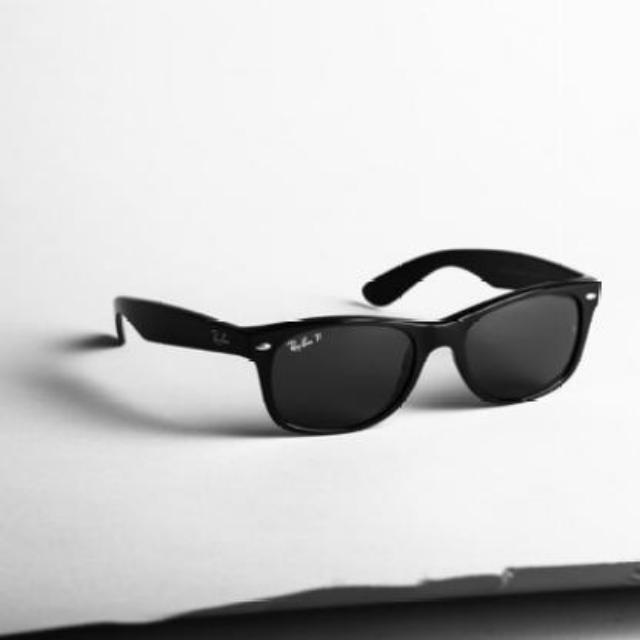sunglasses: (112, 247, 598, 437)
